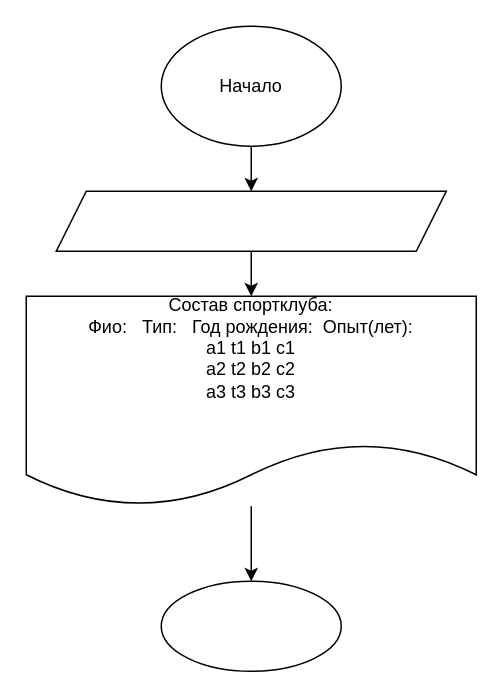
Some shapes in this 503 by 698 pixel diagram are drawn without their labels. Each missing label, with the centre of its shape:
a1 , a2 , a3 , t1 , t2 , t3, b1 , b2 , b3 , c1 , c2 , c3: point (250, 220)
Конец: point (250, 625)
